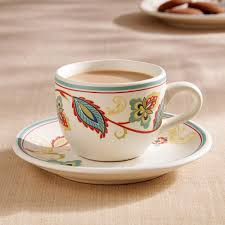Cup: (9, 31, 218, 199)
